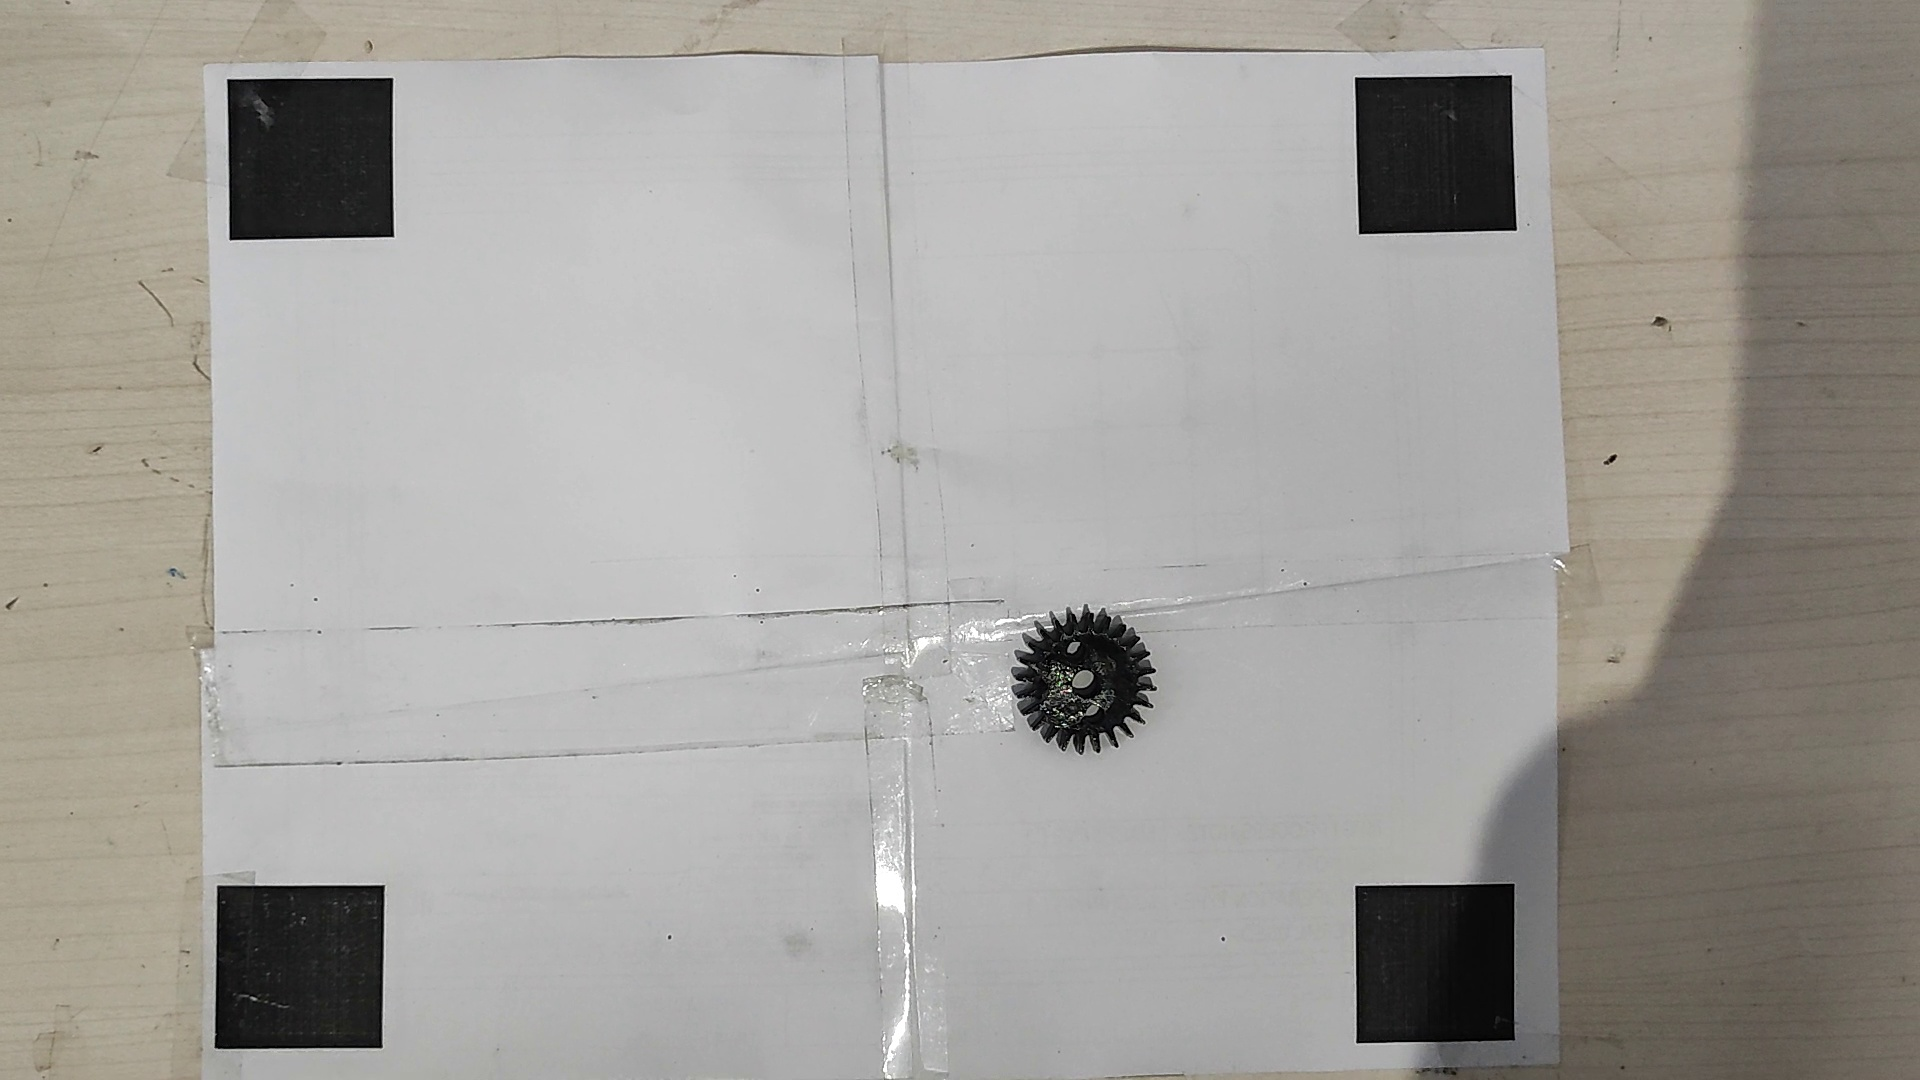Gear: (1006, 605, 1155, 760)
